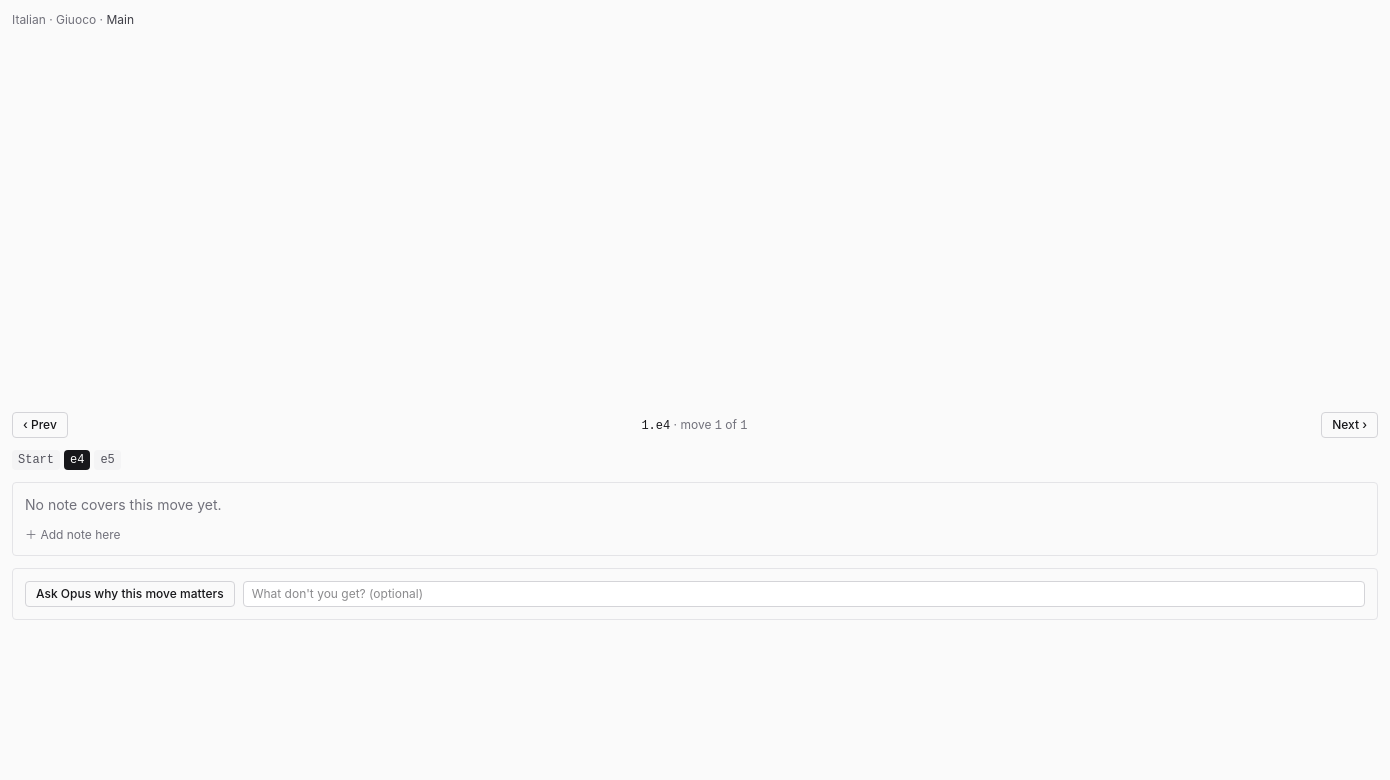
Test case: LineAskPanel in the walk-through › a response that lands after a note changed is dropped even with no newer request
The width and height of the screenshot is (1390, 780).
Click the button "Ask Opus why this move matters" at point(130, 594), box [25,581,235,607]
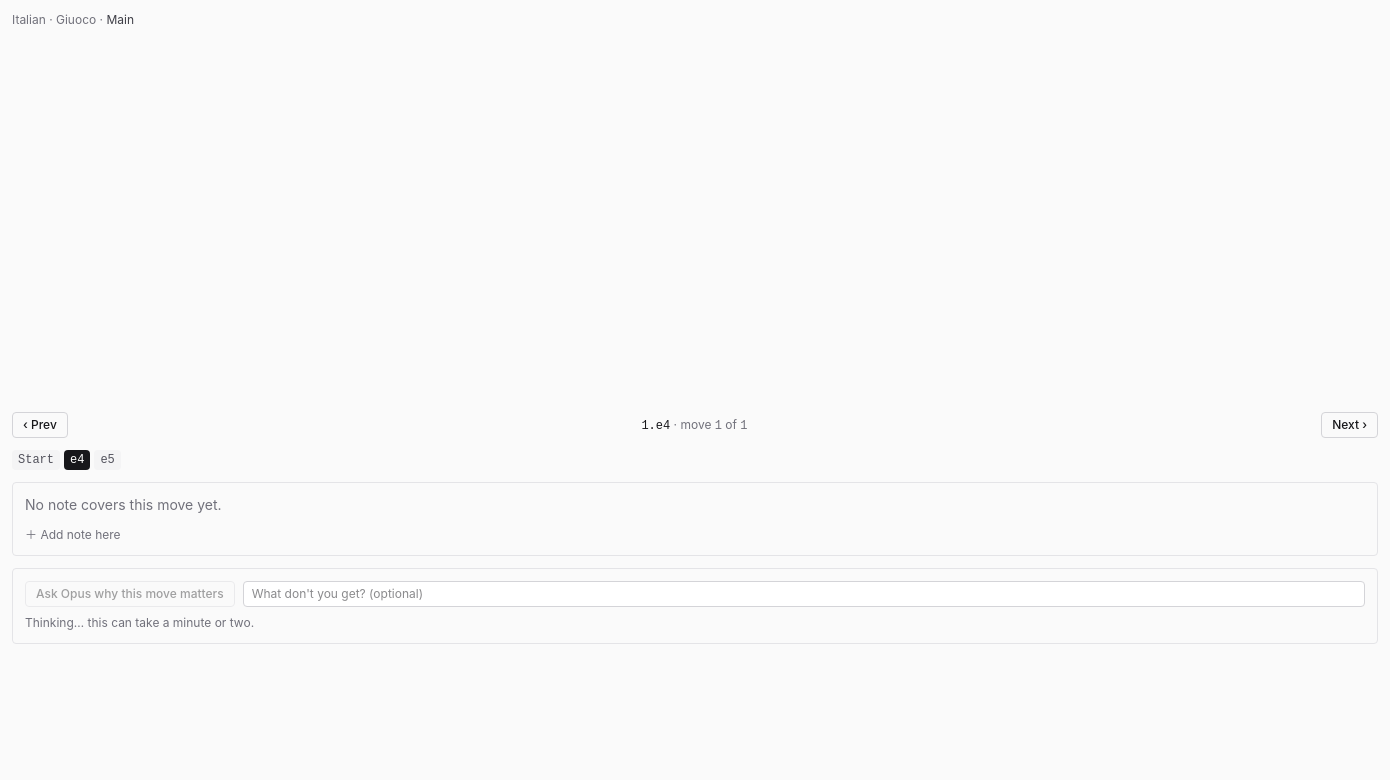
Click the button "＋ Add note here" at point(73, 535), box [25,527,121,543]
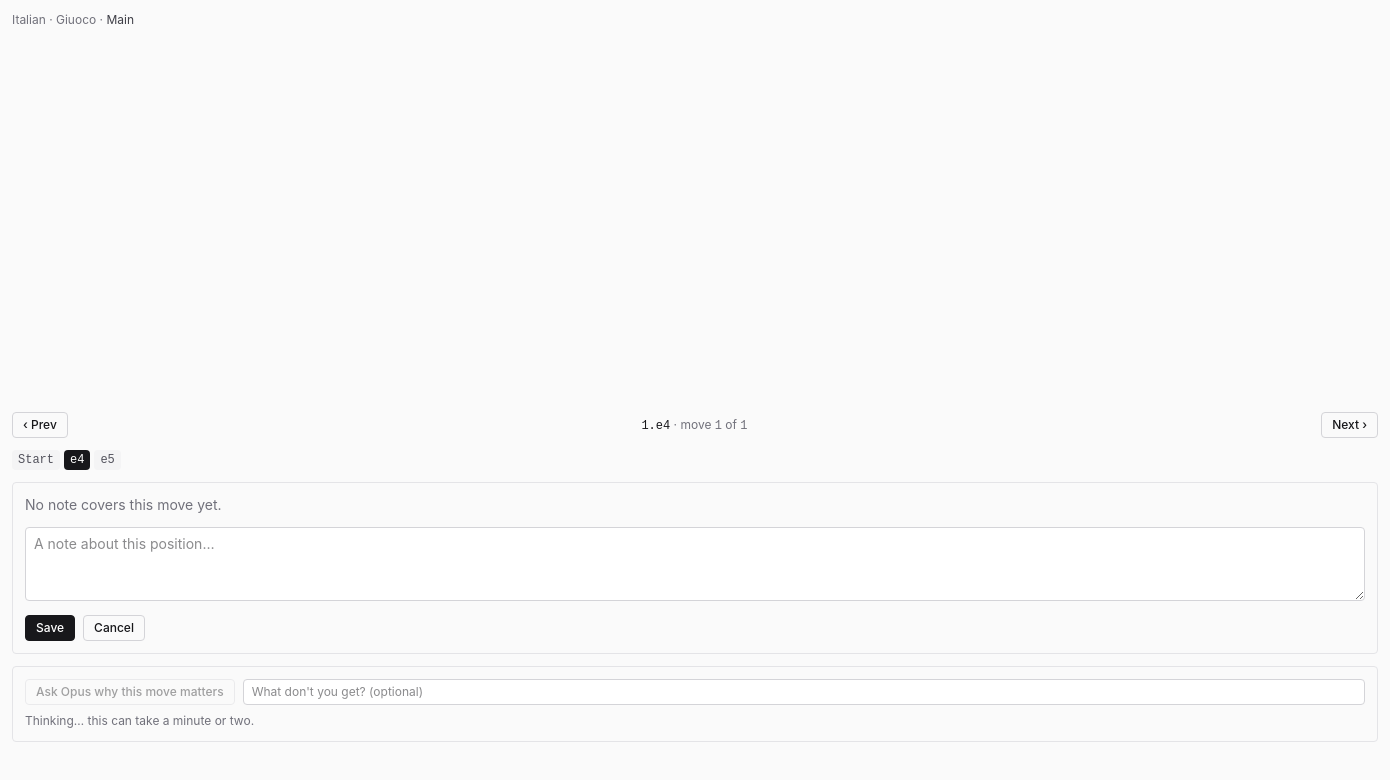
Type "mine" into the text box labelled "note" at point(695, 564), box [25,527,1365,601]
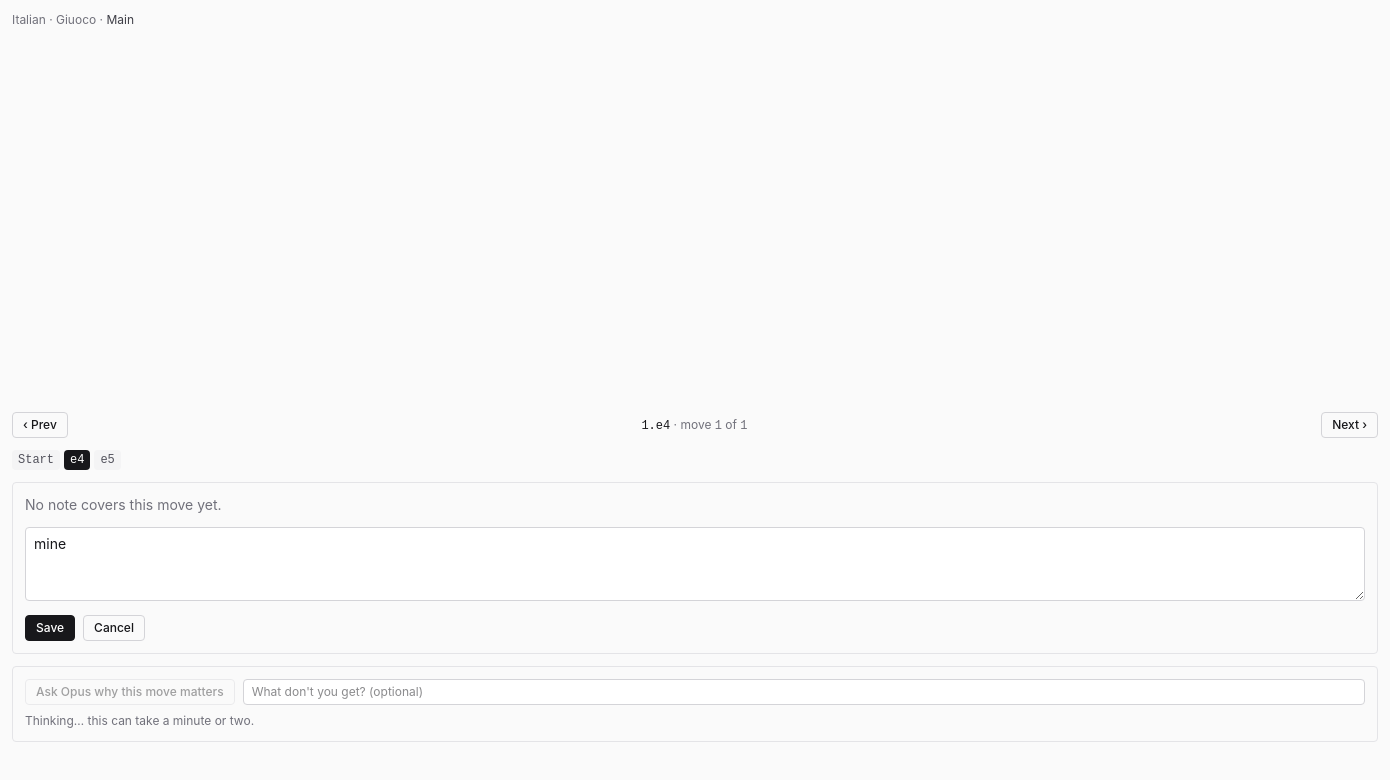
Click the button "Save" at point(50, 628), box [25,615,75,641]
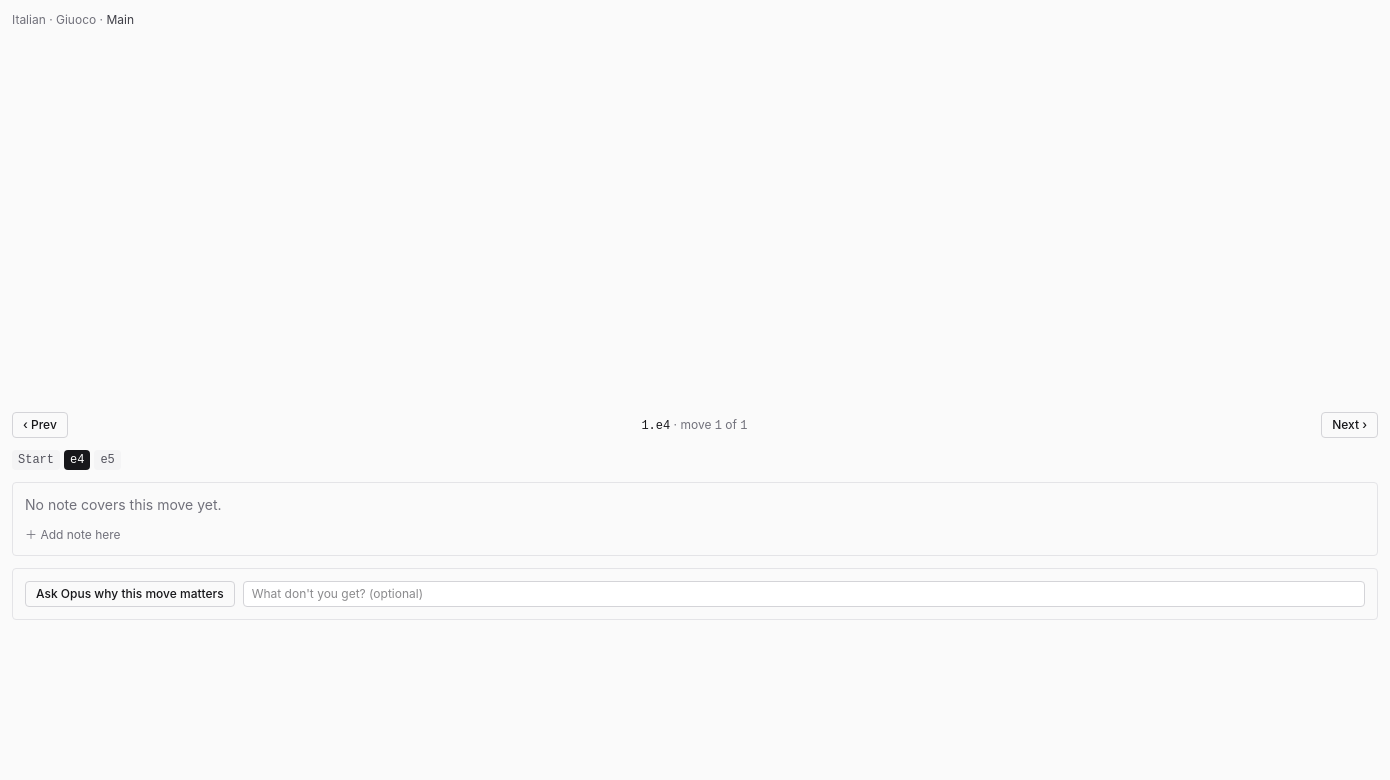
Result: the text "Thinking…" is gone
